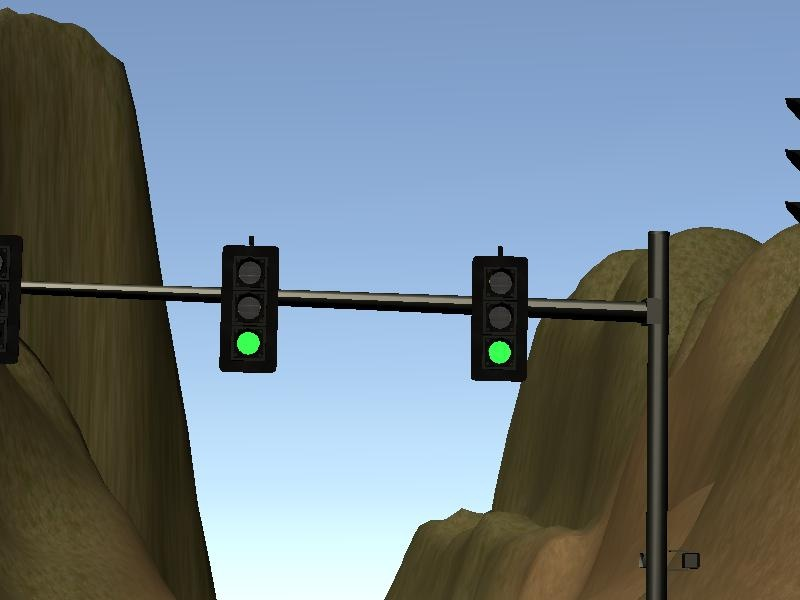GREEN: (470, 255, 530, 381), (219, 244, 275, 375)
